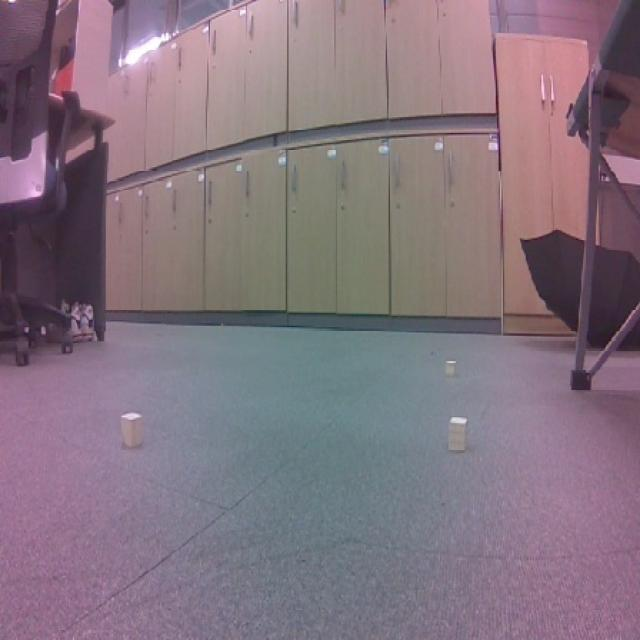obstacle: (108, 399, 161, 459), (438, 409, 480, 461)
